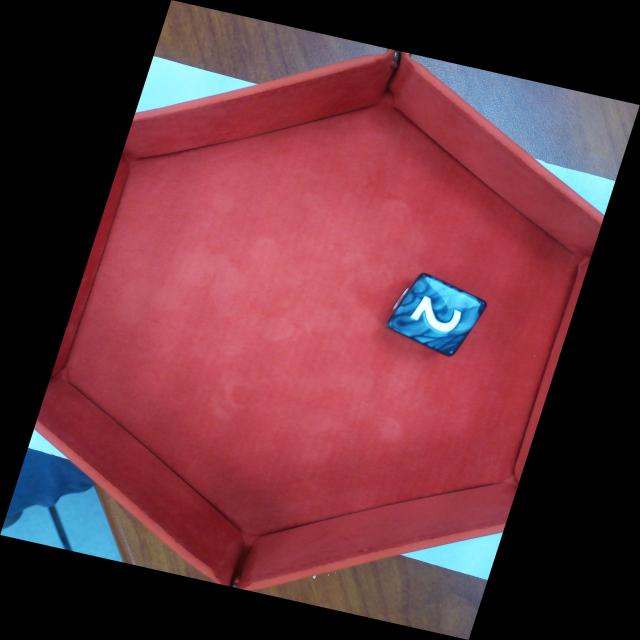dice: (384, 271, 490, 359)
